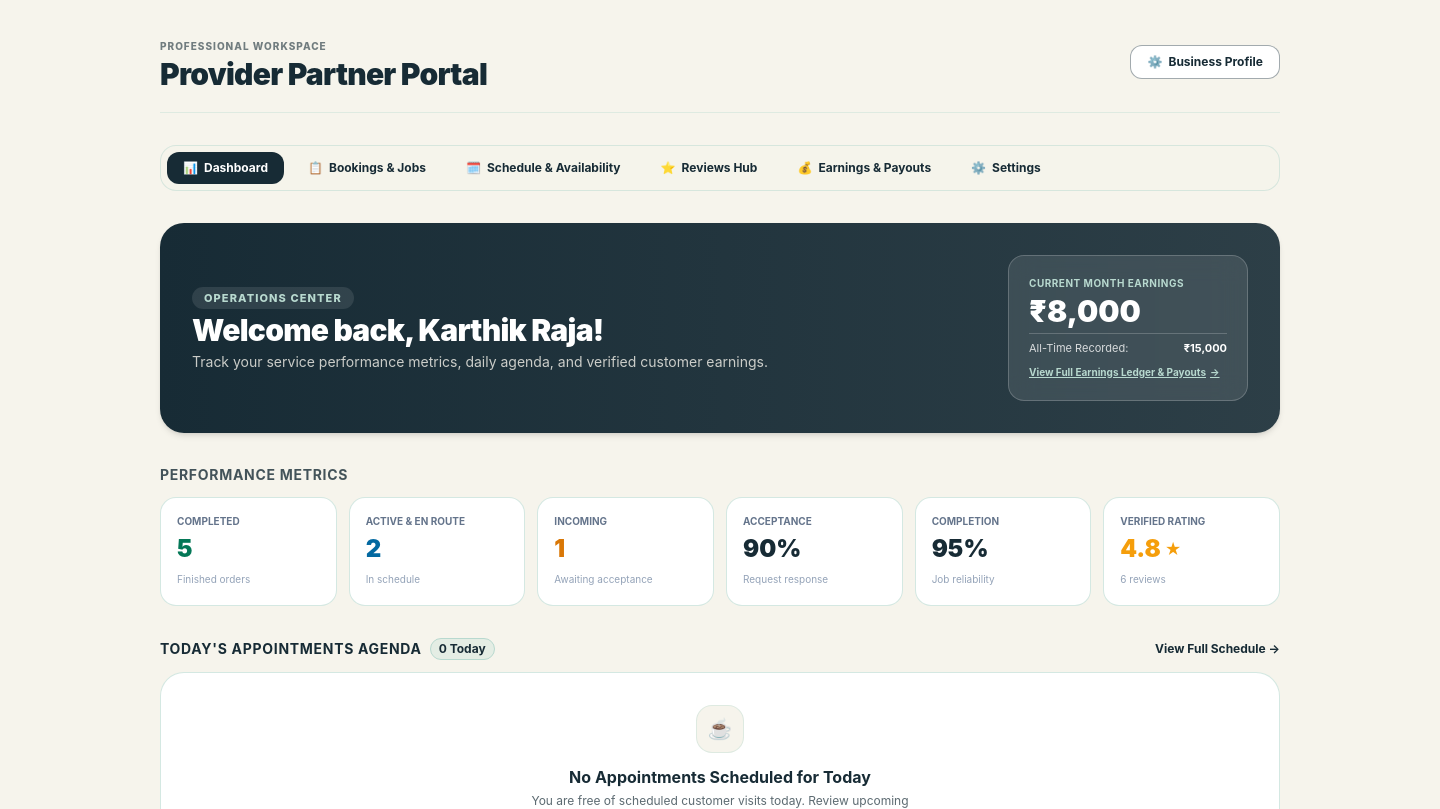
it: ProviderPortalView Component › renders provider partner portal workspace with tabs and switches to ProviderBookingsView
expect the heading "Provider Partner Portal" is shown: met, box [160,56,487,92]
expect the button "🗓️ Schedule & Availability" is shown: met, box [450,152,637,184]
// Switch to Bookings & Jobs tab
Click the button "📋 Bookings & Jobs": (367, 168) [292,152,442,184]
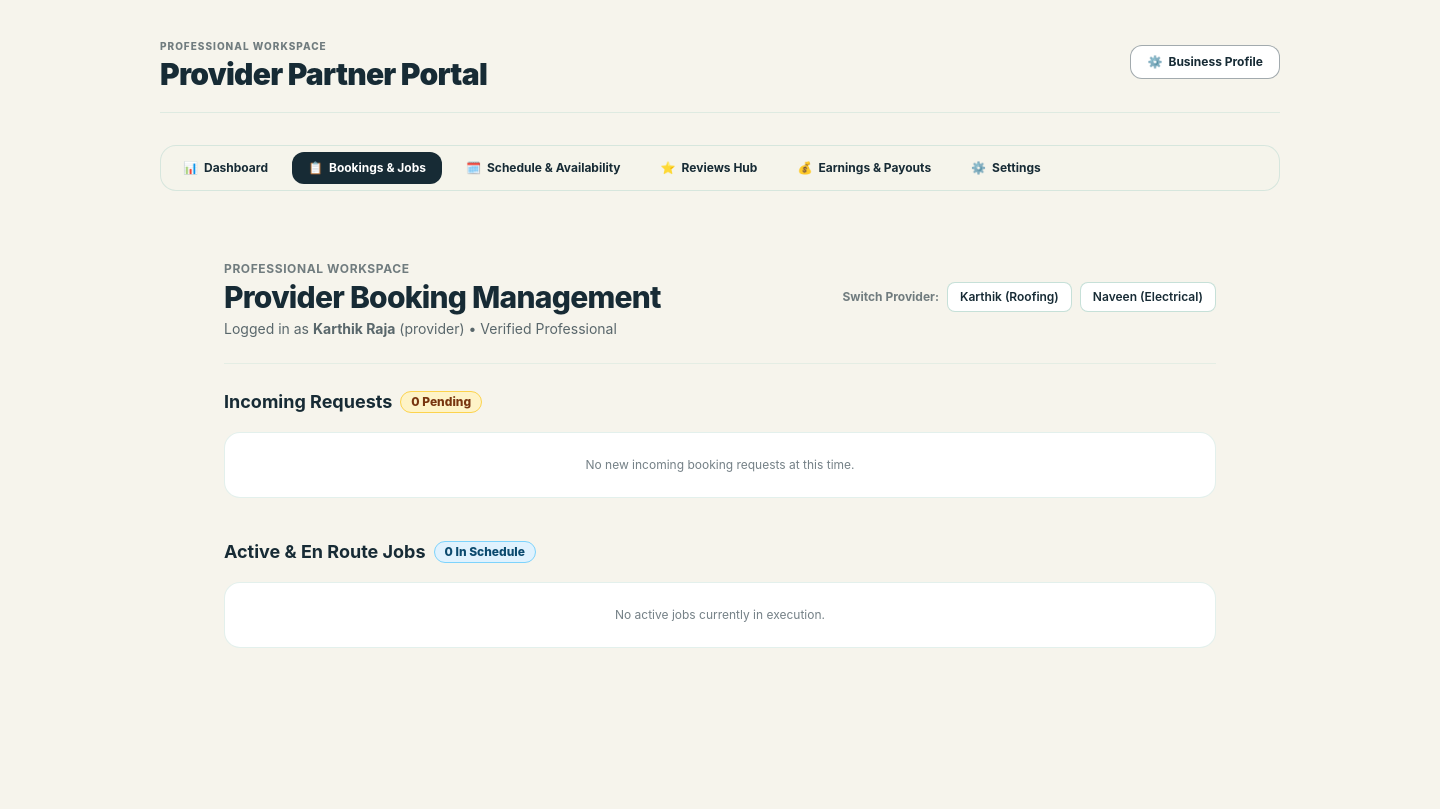
expect the heading "Provider Booking Management" is shown: met, box [224,279,661,315]
